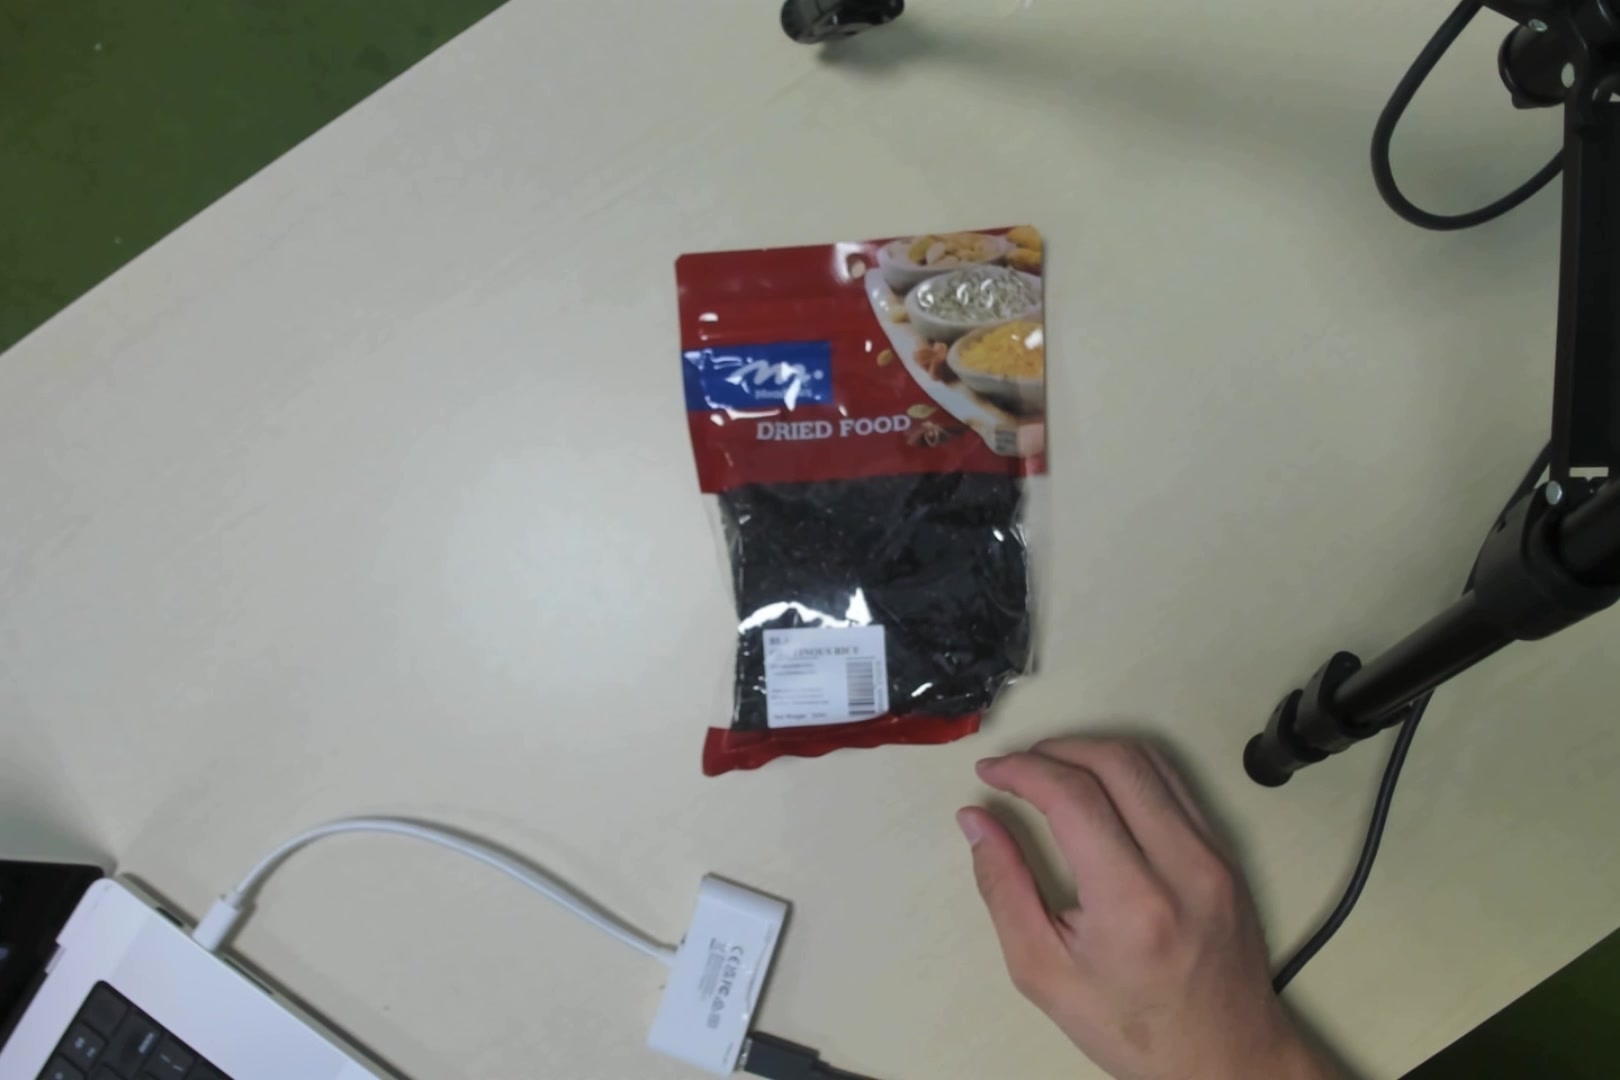OtherDriedFood_100-199g_NonHalal_NonHealthy: (700, 209, 1052, 749)
